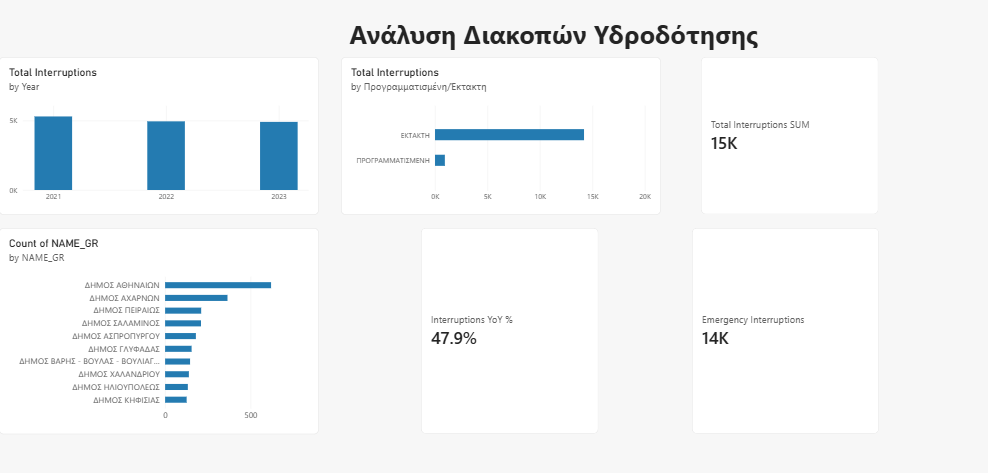

Layout of this report page (visuals, bound fields, positions):
{"tool":"powerbi","page":{"name":"Analysis","canvas":[1920,1080],"ordinal":1},"visuals":[{"type":"textbox","box":[10.2,112.3,1877.7,93.4],"z":0},{"type":"clusteredColumnChart","fields":{"Category":["Date_Table.Year","Date_Table.Month"],"Y":["NoWater_History.Total Interruptions"]},"box":[10.2,179.5,541.3,267],"z":1},{"type":"clusteredBarChart","fields":{"Category":["NoWater_History.Προγραμματισμένη/Έκτακτη"],"Y":["NoWater_History.Total Interruptions"]},"box":[589.4,179.5,541,267],"z":2},{"type":"clusteredBarChart","fields":{"Category":["nowater-100520262045_with_NAME_GR.NAME_GR"],"Y":["CountNonNull(nowater-100520262045_with_NAME_GR.NAME_GR)"]},"box":[10.2,468.3,541.3,348.7],"z":3},{"type":"cardVisual","fields":{"Data":["NoWater_History.Total Interruptions SUM"]},"box":[1197.8,179.5,300.5,267],"z":4},{"type":"cardVisual","fields":{"Data":["NoWater_History.Emergency Interruptions"]},"box":[1182.4,468.6,316.6,348.7],"z":5},{"type":"cardVisual","fields":{"Data":["NoWater_History.Interruptions YoY %"]},"box":[724,468.6,300.5,348.7],"z":6}]}

Visuals, with their boxes on the page's 1920x1080 design canvas (x1, y1, x2, y2). These are canvas units, not pixel positions in the 988x473 screenshot, which may show the page scaled, cropped or inside an application window:
textbox: 10:112:1888:206
clusteredColumnChart - Date_Table.Year x Date_Table.Month: 10:180:552:446
clusteredBarChart - NoWater_History.Προγραμματισμένη/Έκτακτη x NoWater_History.Total Interruptions: 589:180:1130:446
clusteredBarChart - nowater-100520262045_with_NAME_GR.NAME_GR x CountNonNull(nowater-100520262045_with_NAME_GR.NAME_GR): 10:468:552:817
cardVisual - NoWater_History.Total Interruptions SUM: 1198:180:1498:446
cardVisual - NoWater_History.Emergency Interruptions: 1182:469:1499:817
cardVisual - NoWater_History.Interruptions YoY %: 724:469:1024:817
